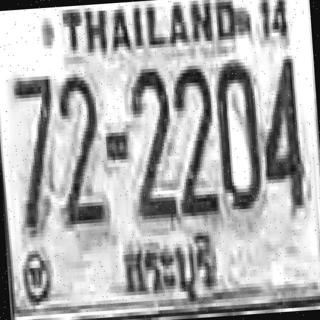N00: (214, 58, 262, 214)
N02: (52, 69, 105, 228), (126, 64, 176, 220), (171, 63, 218, 218)
N04: (257, 53, 306, 212)
N07: (10, 72, 62, 235)
P60: (115, 226, 229, 312)
